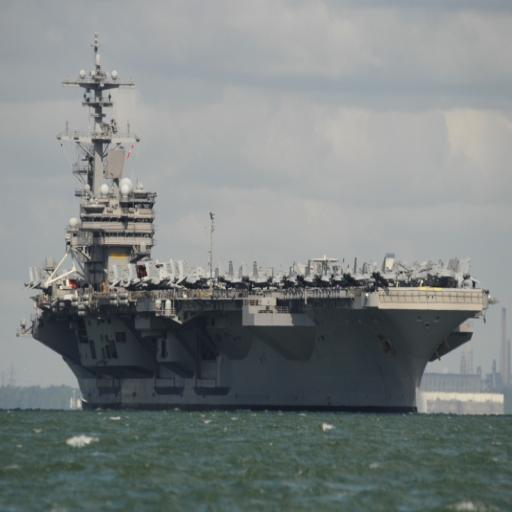Portanaves: (23, 32, 497, 414)
